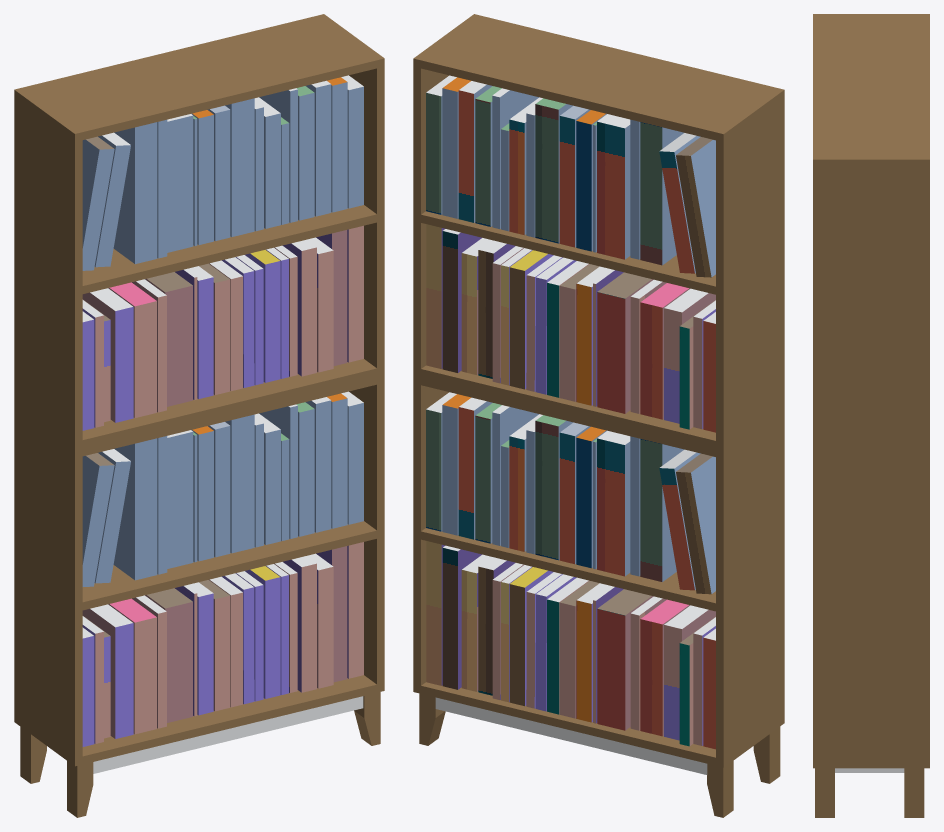
The model's file is Accesories_Bookshelft_C.glb.
3 views of the same model, side by side, from view 1: azimuth 30°, elevation 25°; view 2: azimuth 150°, elevation 25°; view 3: azimuth 270°, elevation 25° (orthographic). The views are drawn at different scales.
Visible parts, largest first — view 1: Accesories_Bookshelft_C; view 2: Accesories_Bookshelft_C; view 3: Accesories_Bookshelft_C.
Part boxes in pixels (x1,y1,x2,y2): Accesories_Bookshelft_C: (14, 14, 384, 817); Accesories_Bookshelft_C: (413, 14, 784, 817); Accesories_Bookshelft_C: (813, 14, 929, 817).
Size of the model in its own units: 0.7703 by 1.63 by 0.2614.
Materials: 1 (1 with a texture image).
